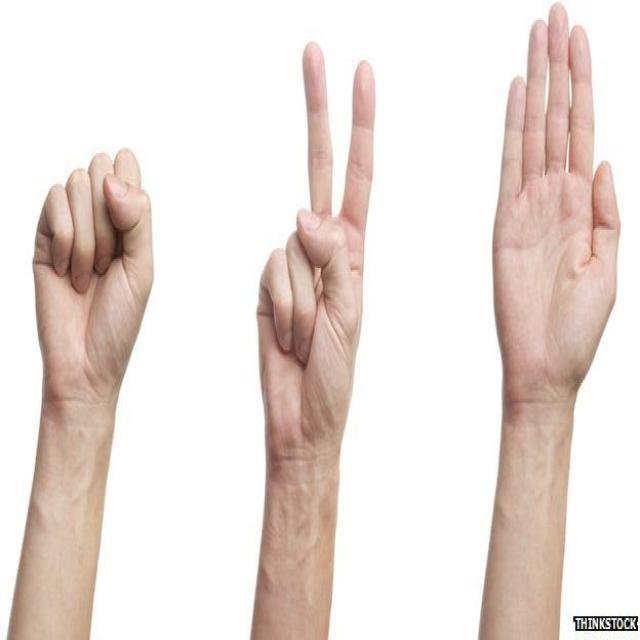paper: (493, 0, 627, 429)
rock: (22, 135, 164, 442)
scirssors: (242, 30, 392, 516)
